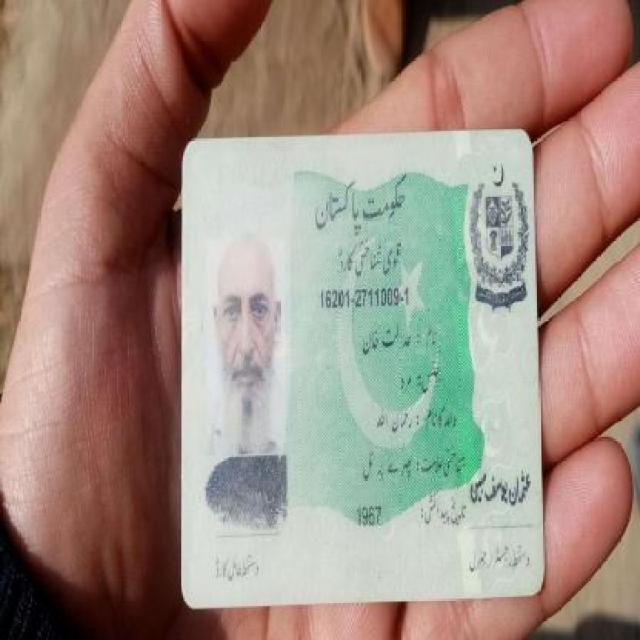Front: (175, 127, 556, 616)
